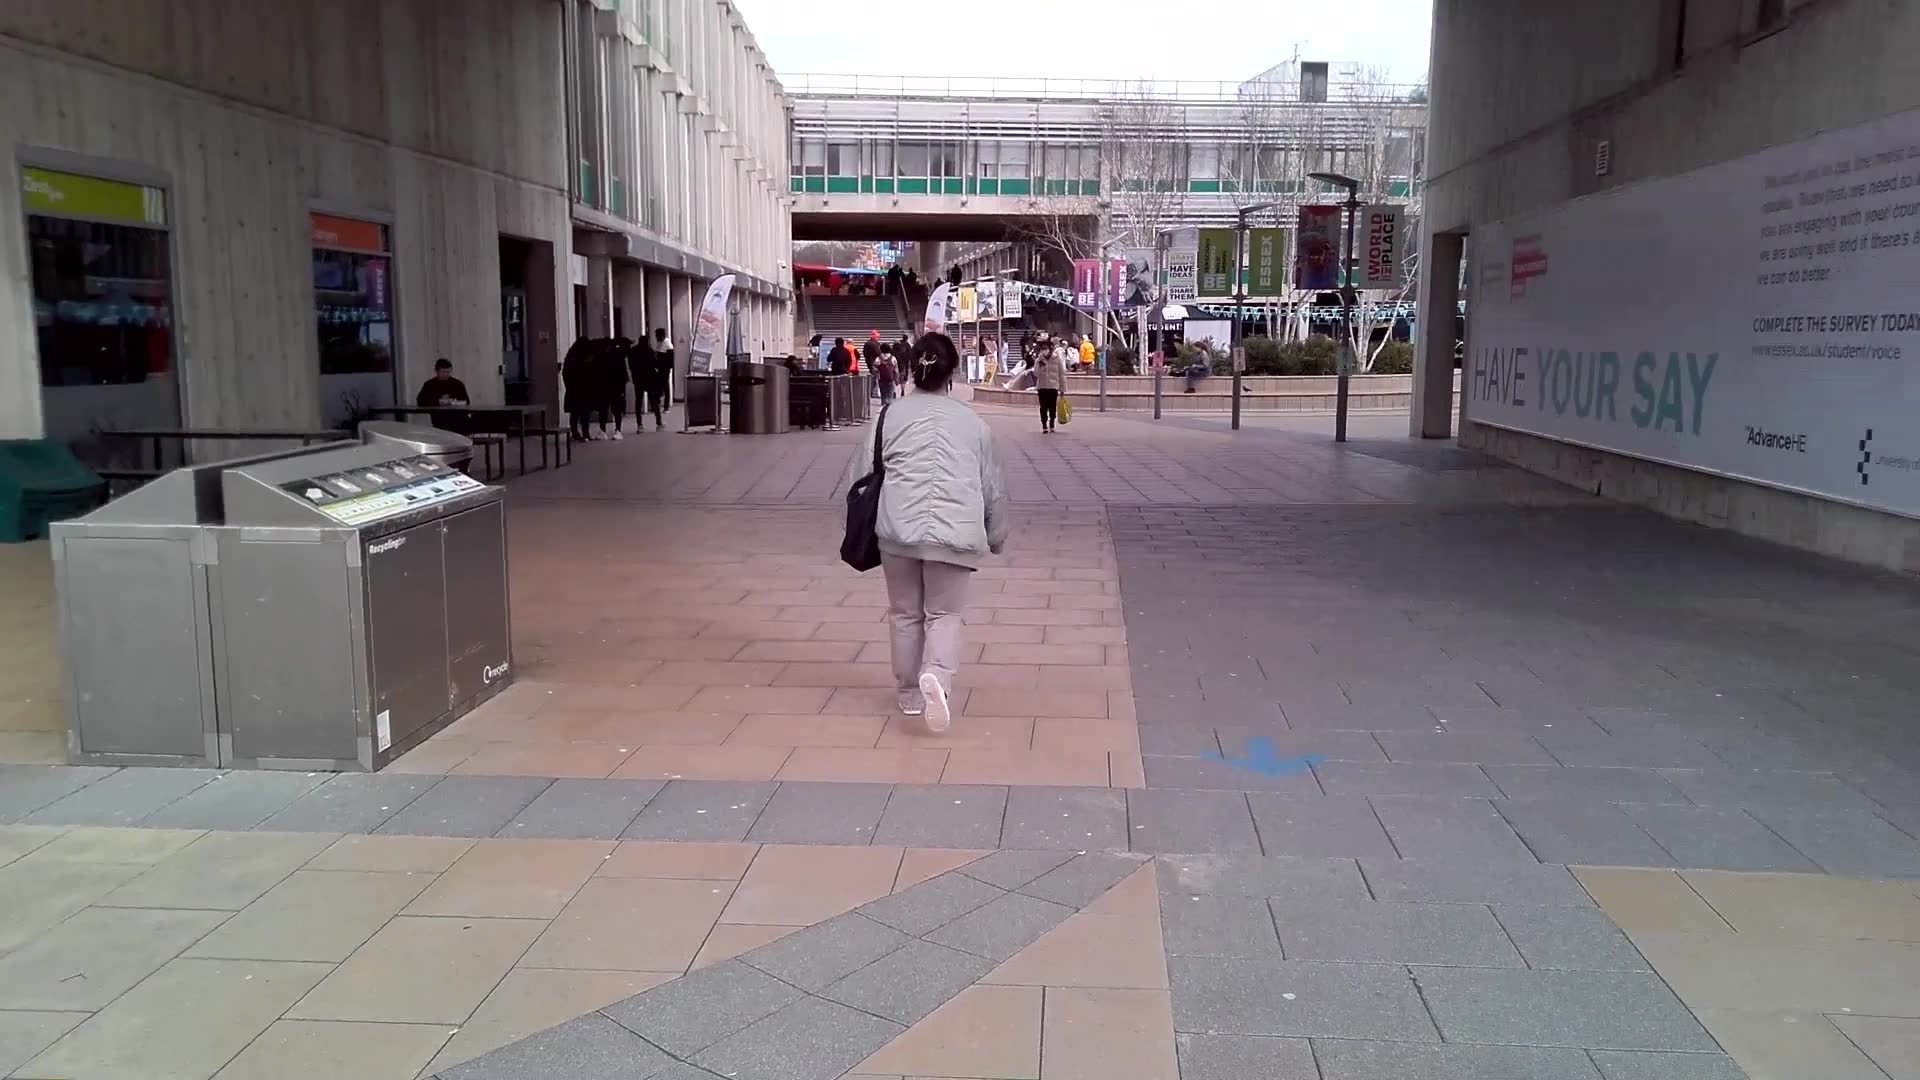Backpack: (841, 465, 892, 578)
Bin: (229, 439, 518, 775), (56, 459, 226, 778), (725, 355, 796, 437)
Person: (872, 333, 997, 725), (1028, 341, 1074, 437), (1182, 338, 1214, 394)
